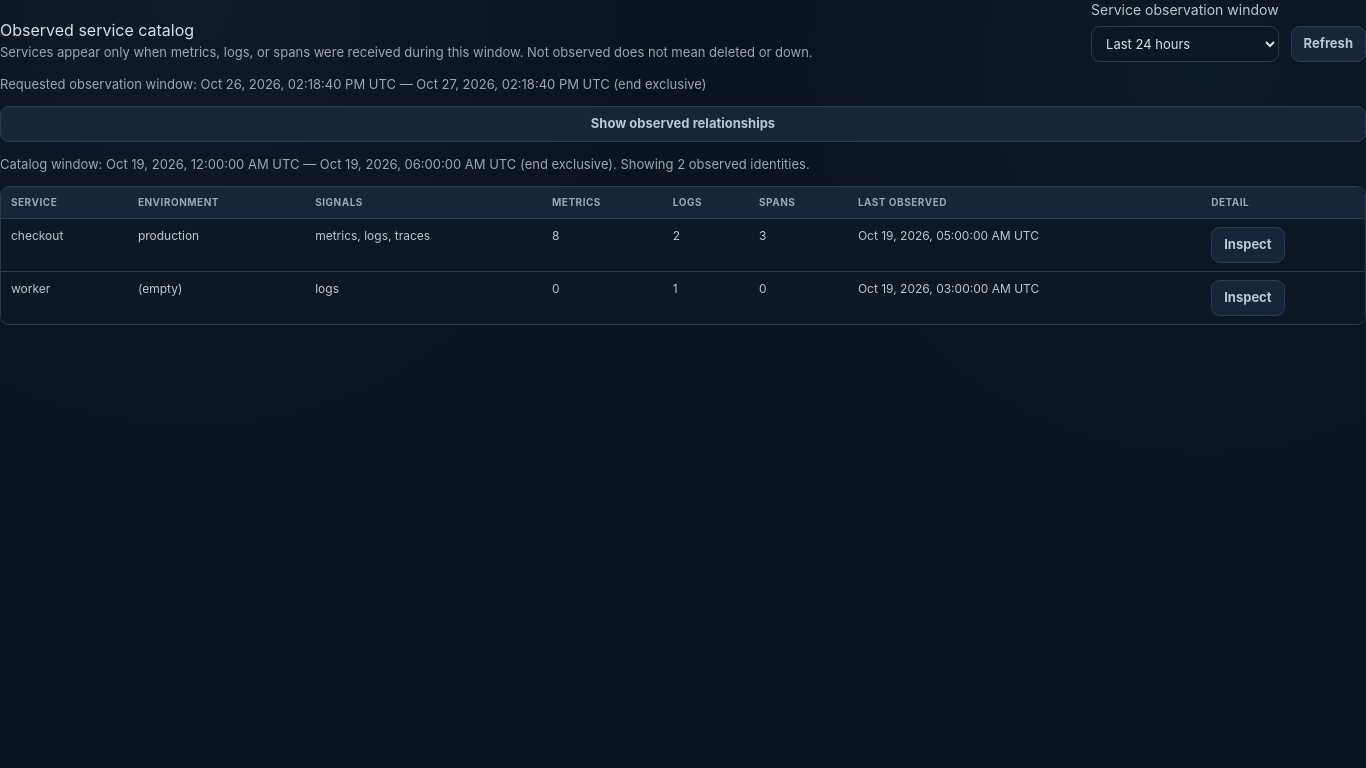
ServicesWorkspace › warns when detail references are truncated
Click the button with aria-label "Inspect checkout, environment production" at (1248, 245), box left=1211, top=227, right=1285, bottom=263
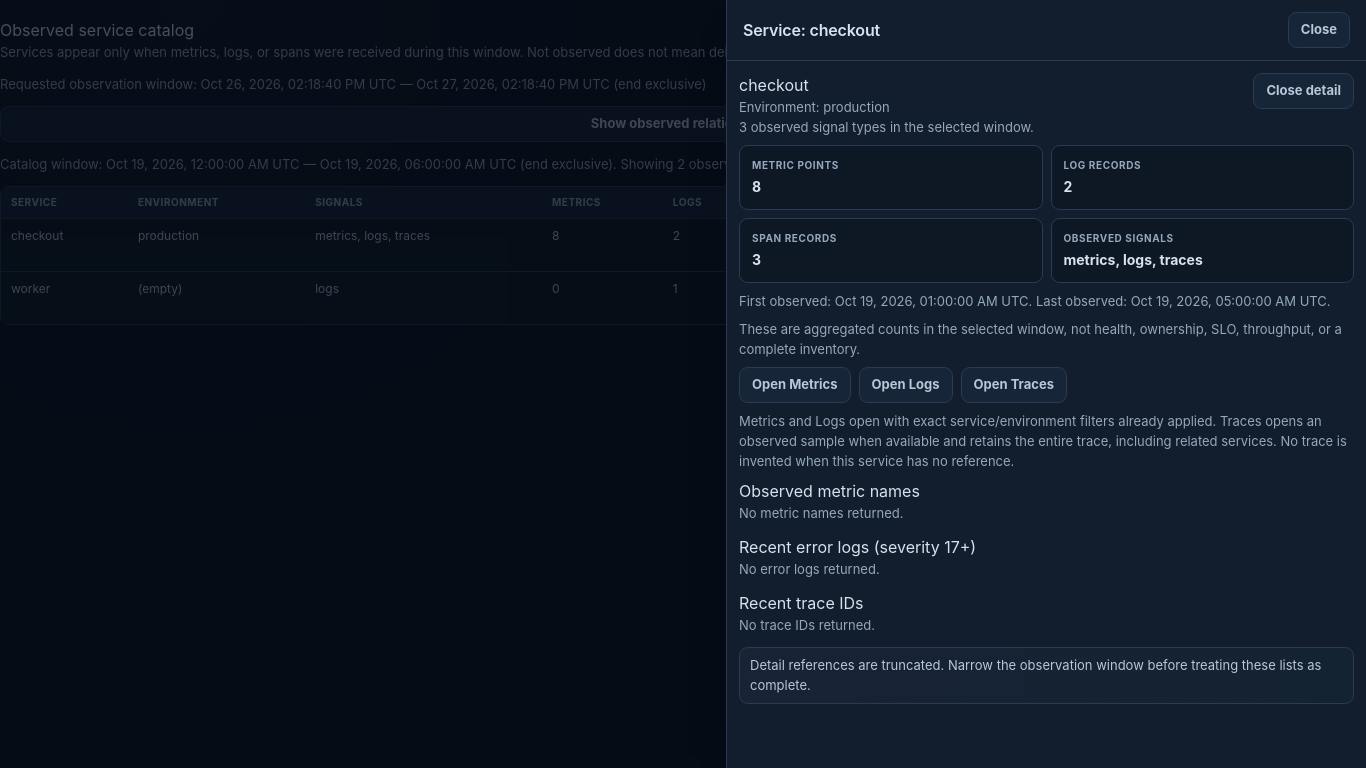
Result: the text "Detail references are truncated" is shown at left=750, top=657, right=1321, bottom=692
